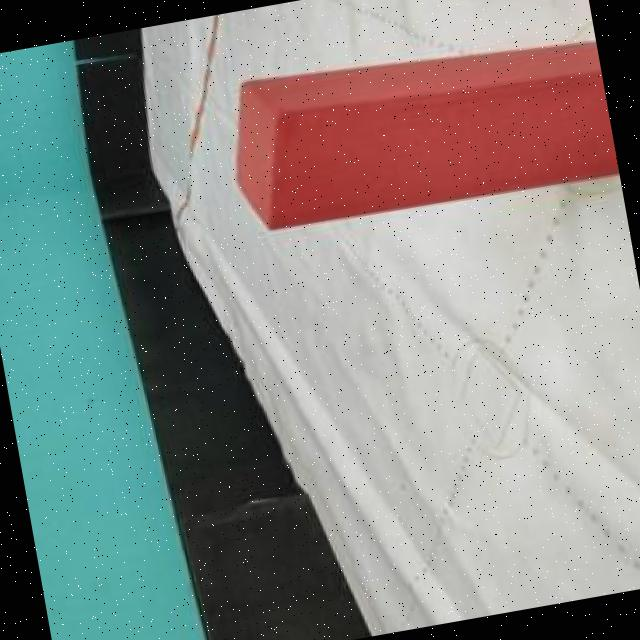redbox: (216, 19, 618, 240)
